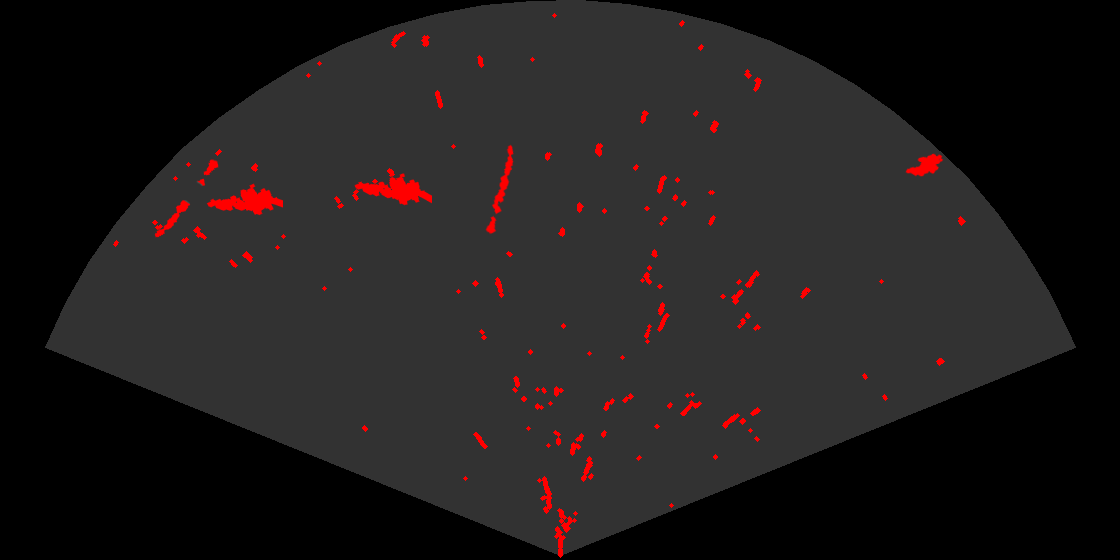AUV: (904, 152, 945, 178)
chain: (153, 158, 220, 239), (484, 143, 515, 236)
frogman: (353, 172, 432, 207), (205, 182, 283, 217)
